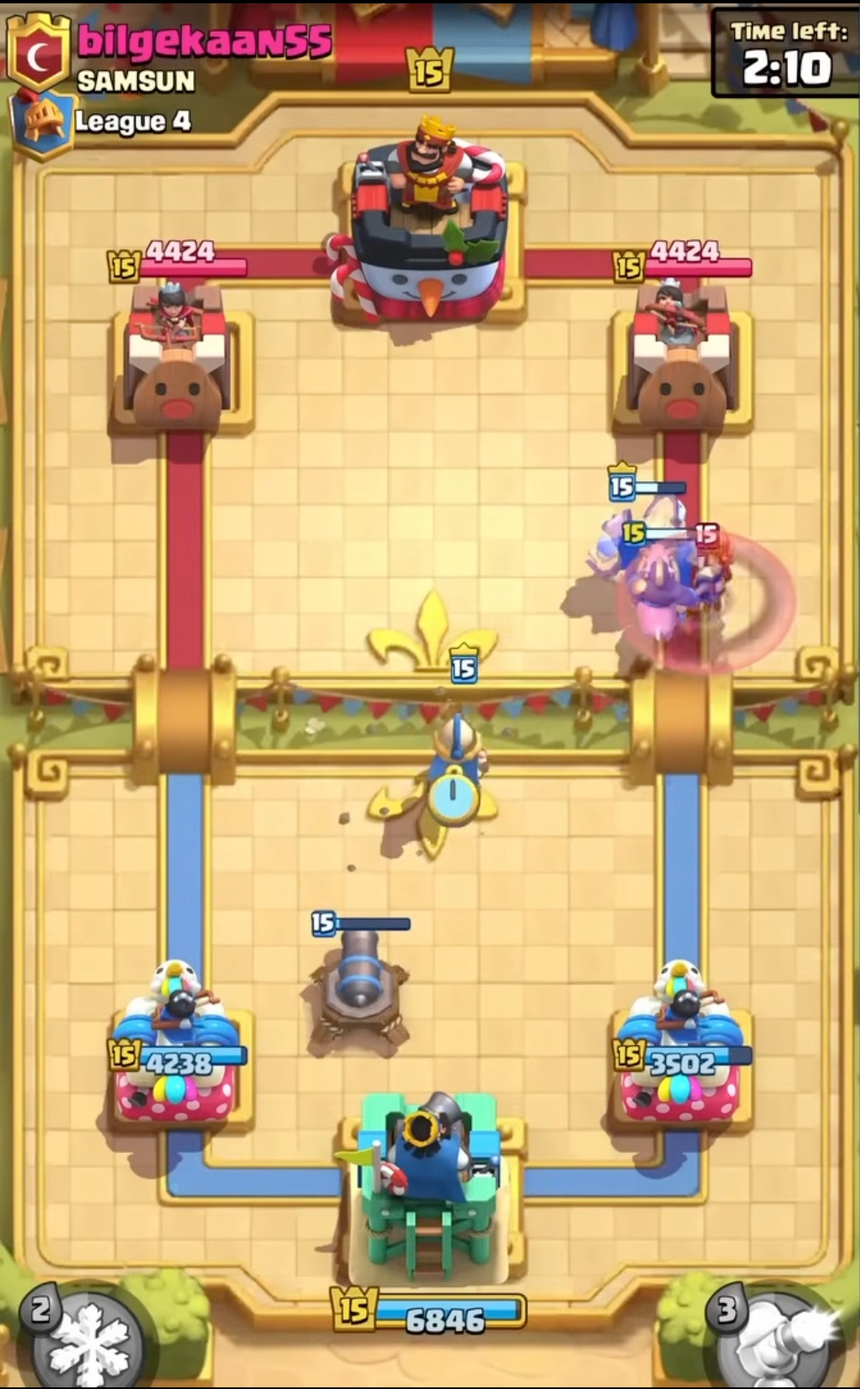cannon: (300, 899, 422, 1056)
hero_ice_golem: (592, 468, 706, 600)
hero_musketeer: (422, 642, 499, 822)
hog_rider: (615, 517, 706, 655)
